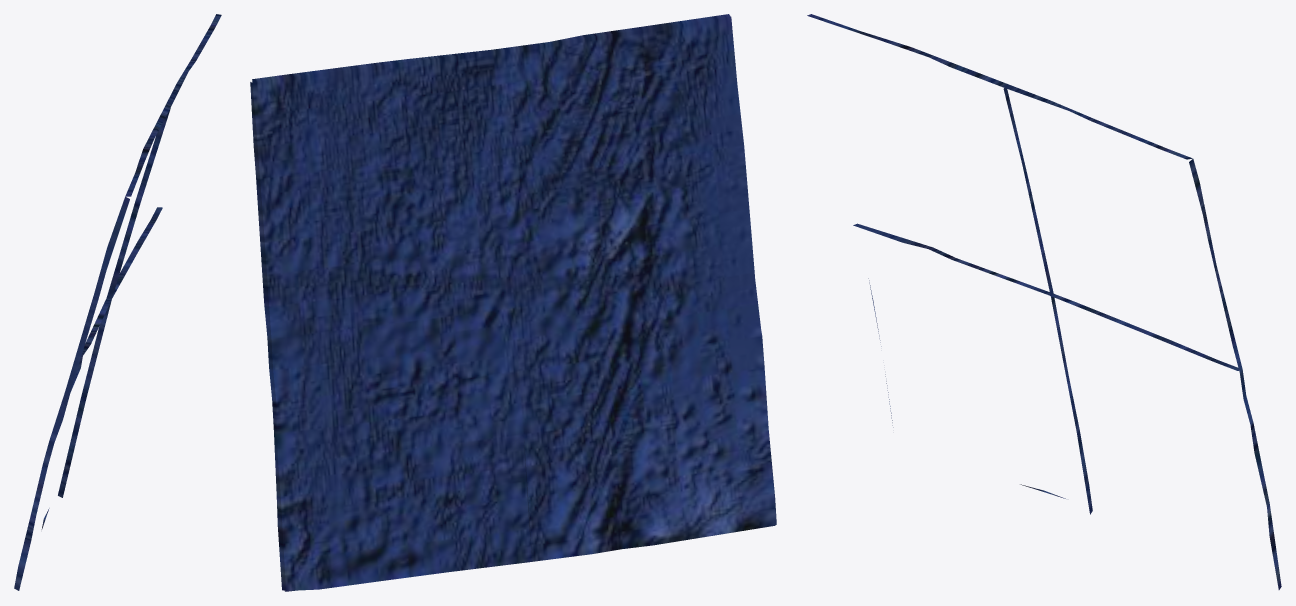
3 renders of one model, left to right at view 1: azimuth 30°, elevation 25°; view 2: azimuth 150°, elevation 25°; view 3: azimuth 270°, elevation 25°, orthographic. The views are drawn at different scales.
Size of the model in its own units: 527882 by 612085 by 559242.
1 material, 1 textured.
